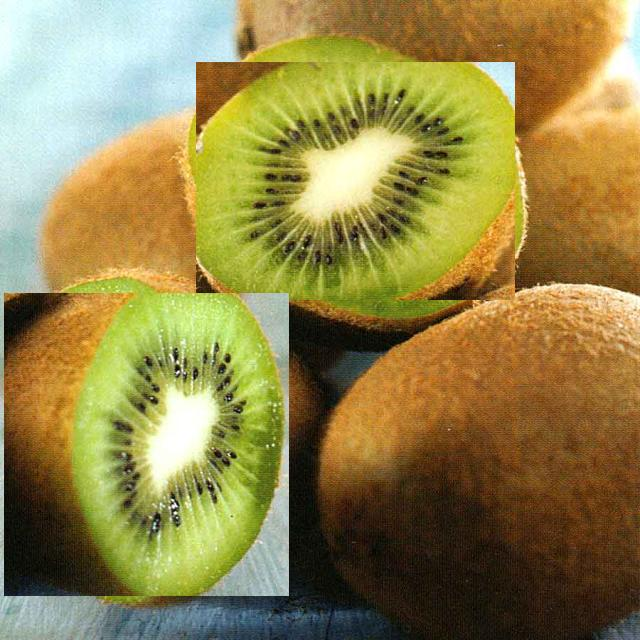Qiwi: (325, 323, 640, 626), (4, 293, 289, 596), (196, 62, 515, 300)
